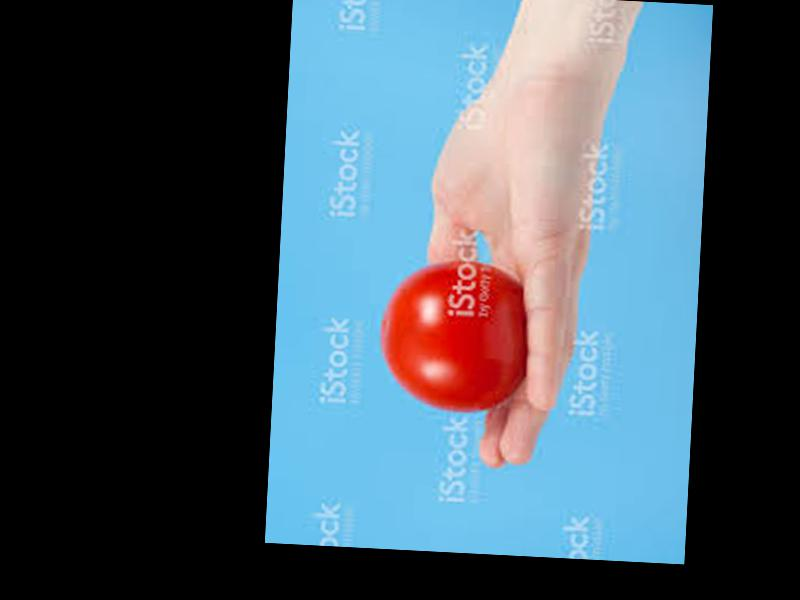Tomato: (380, 259, 529, 415)
